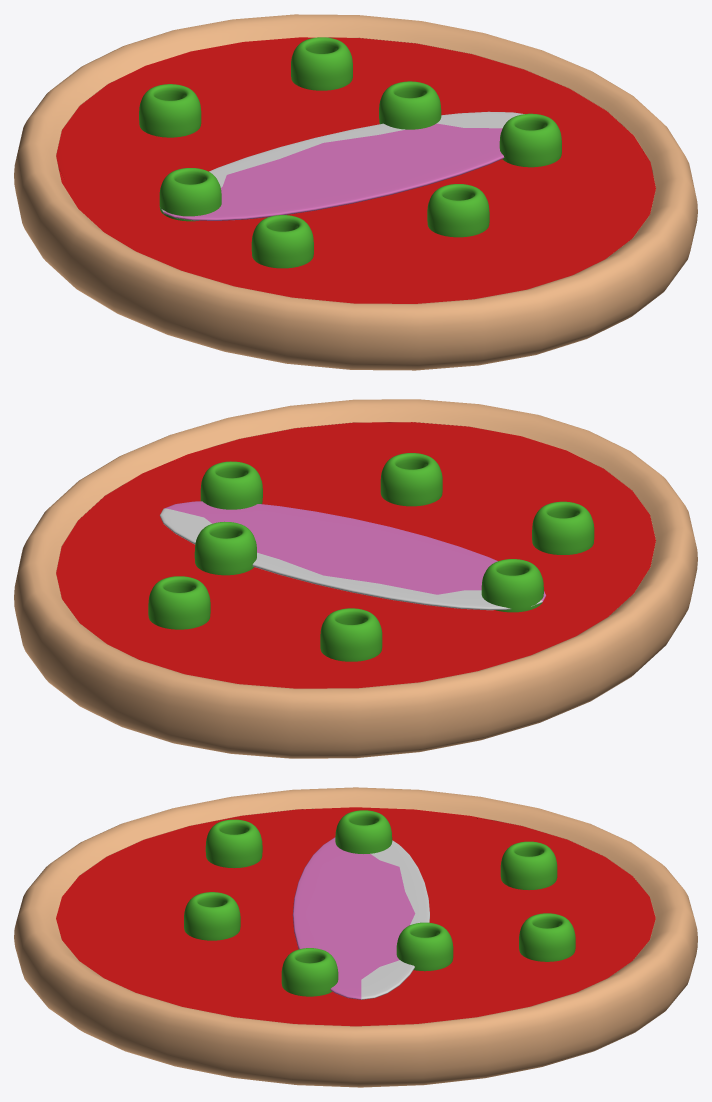
Rendered from pizza verane.fbx.
3 views of the same model, one above another, from view 1: azimuth 30°, elevation 25°; view 2: azimuth 150°, elevation 25°; view 3: azimuth 270°, elevation 25° (orthographic). The views are drawn at different scales.
Visible parts, largest first — view 1: Cylinder, Cylinder.001, Cylindre; view 2: Cylinder, Cylinder.001, Cylindre; view 3: Cylinder, Cylinder.001, Cylindre.
Part boxes in pixels (x1,y1,x2,y2): Cylinder: (14,14,697,370); Cylinder.001: (139,37,561,268); Cylindre: (160,111,524,220); Cylinder: (14,399,697,758); Cylinder.001: (148,453,594,661); Cylindre: (159,501,546,610); Cylinder: (14,787,697,1087); Cylinder.001: (184,810,575,996); Cylindre: (292,837,429,999).
Size of the model in its own units: 182 by 25.87 by 207.
